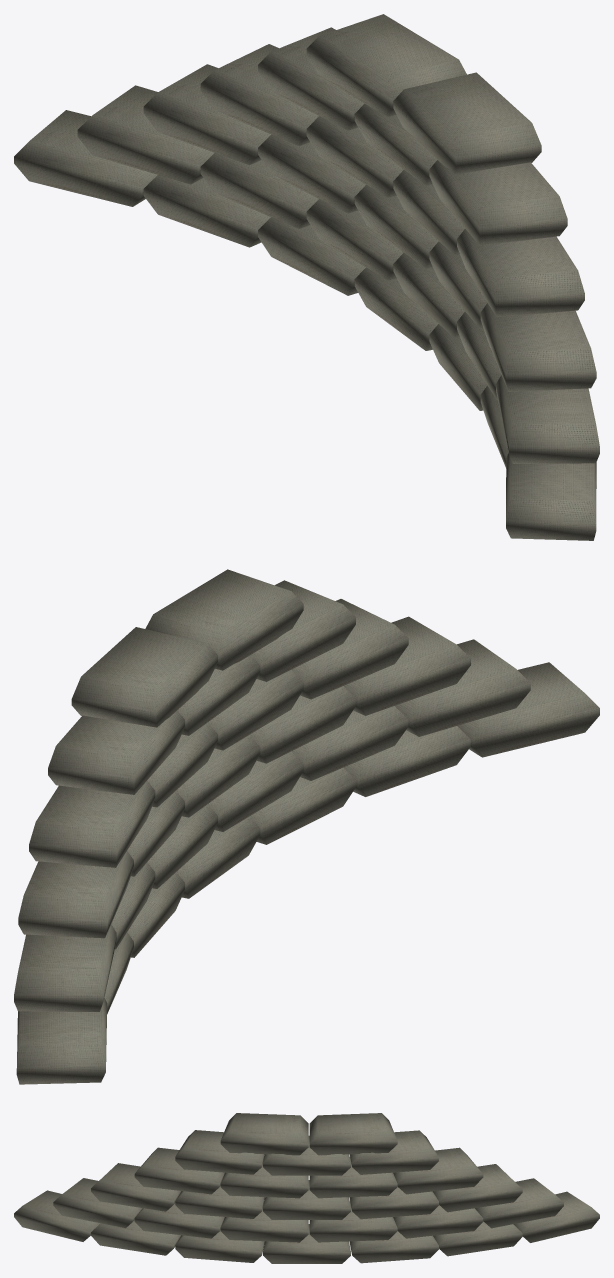
File: sacos_areia.gltf
The picture shows the model from 3 angles, top to bottom: view 1: azimuth 30°, elevation 25°; view 2: azimuth 150°, elevation 25°; view 3: azimuth 270°, elevation 25°; orthographic projection. The views are drawn at different scales.
Parts seen in each view (by area): view 1: sacos_areia; view 2: sacos_areia; view 3: sacos_areia.
Boxes of the visible parts, <box> form: sacos_areia: <box>14,14,599,540</box>; sacos_areia: <box>14,569,599,1084</box>; sacos_areia: <box>14,1113,599,1263</box>.
Size of the model in its own units: 1.02 by 1.1 by 4.48.
1 material, 1 textured.
